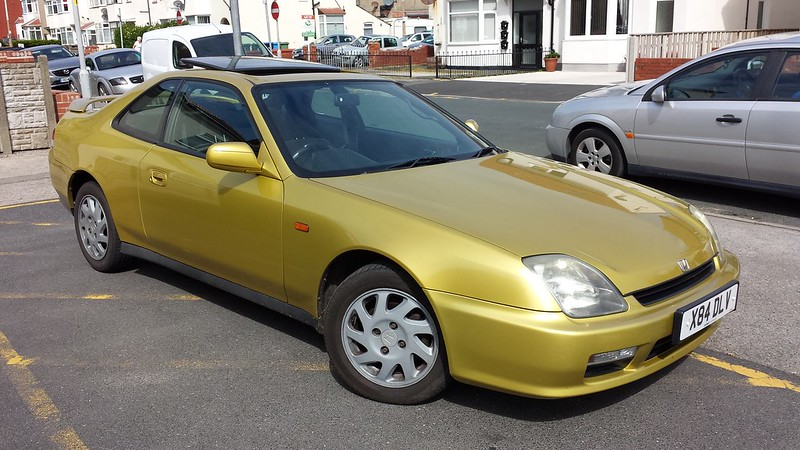number_plate: (660, 277, 774, 339)
